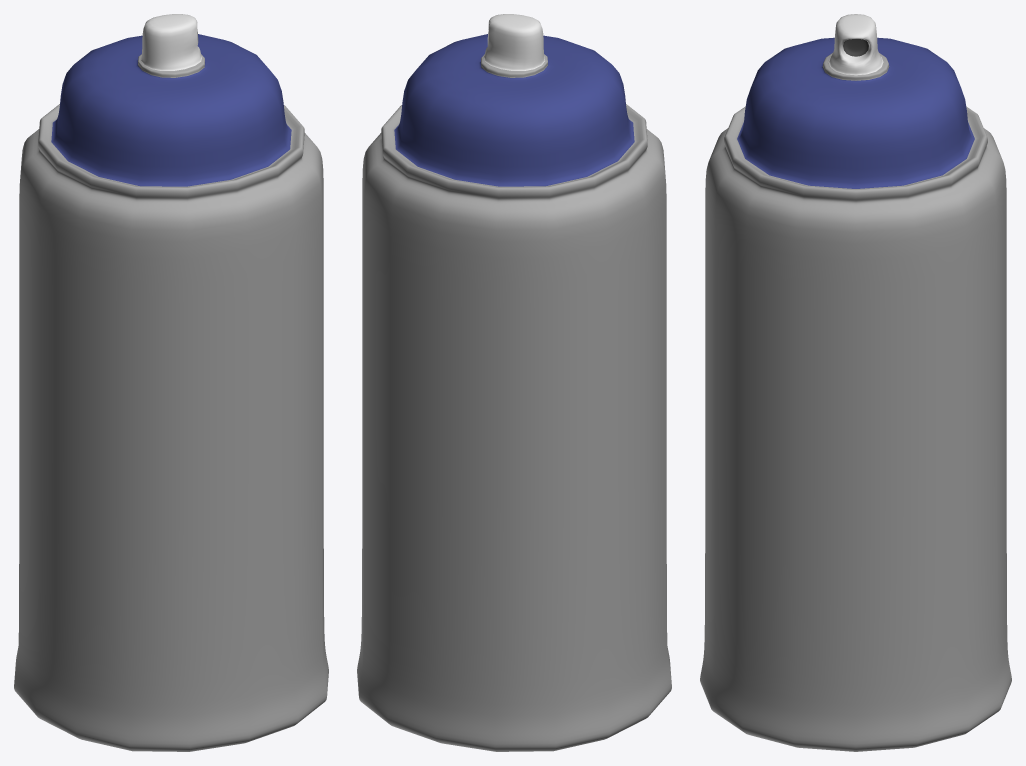
Rendered from SprayCan.fbx.
The picture shows the model from 3 angles, left to right: view 1: azimuth 30°, elevation 25°; view 2: azimuth 150°, elevation 25°; view 3: azimuth 270°, elevation 25°; orthographic projection.
Visible parts, largest first — view 1: Cube; view 2: Cube; view 3: Cube.
Part boxes in pixels (x1,y1,x2,y2): Cube: (14,14,328,751); Cube: (357,14,671,751); Cube: (700,14,1011,751).
Size of the model in its own units: 127 by 302 by 127.
